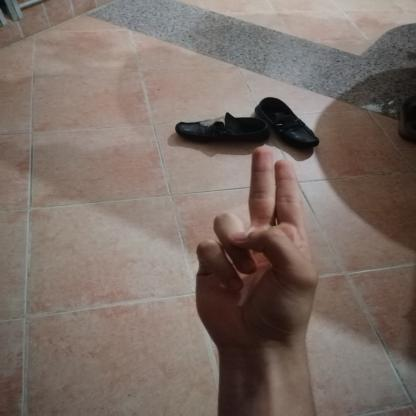TA: (175, 135, 335, 359)
